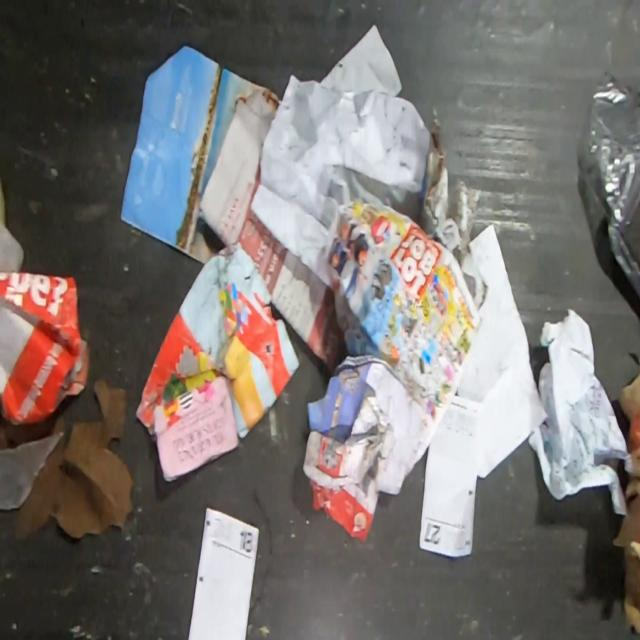cardboard: (134, 241, 302, 483), (0, 270, 92, 426)
soft_plastic: (576, 70, 640, 320)
